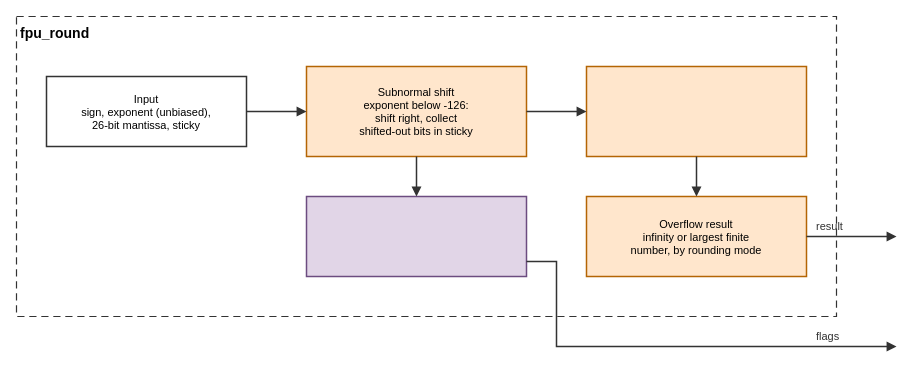
This 913x367 diagram has some shape labels left out. The shapes that lost their labels are listed below. From the top down, each one's box as (x1, y1, x2, y2) in pixels, then its label:
(585, 65, 807, 157): Round increment RNE, RTZ, RDN, RUP, RMM from LSB, round bit, sticky bit, sign
(305, 195, 527, 277): Flags NX: round or sticky UF: tiny after rounding and NX OF: exponent >= 255
